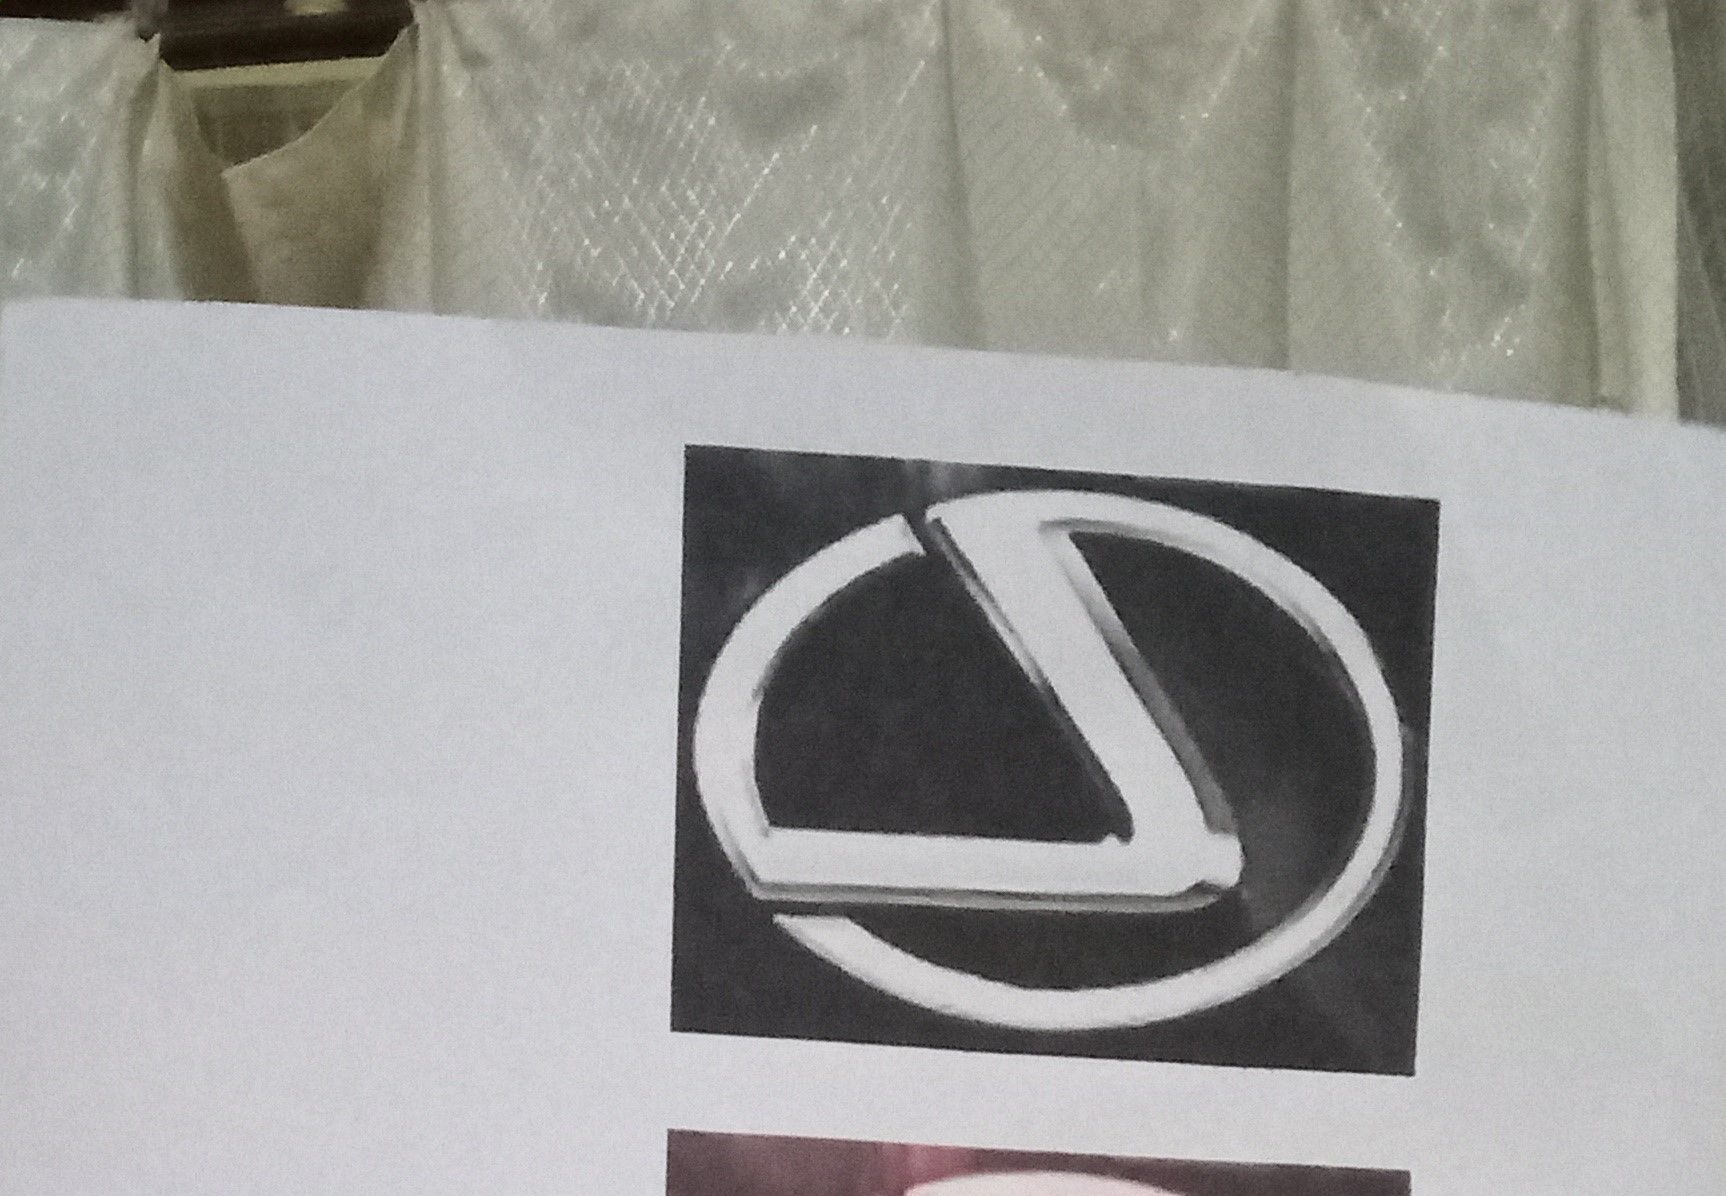Lexus: (696, 454, 1420, 1056)
